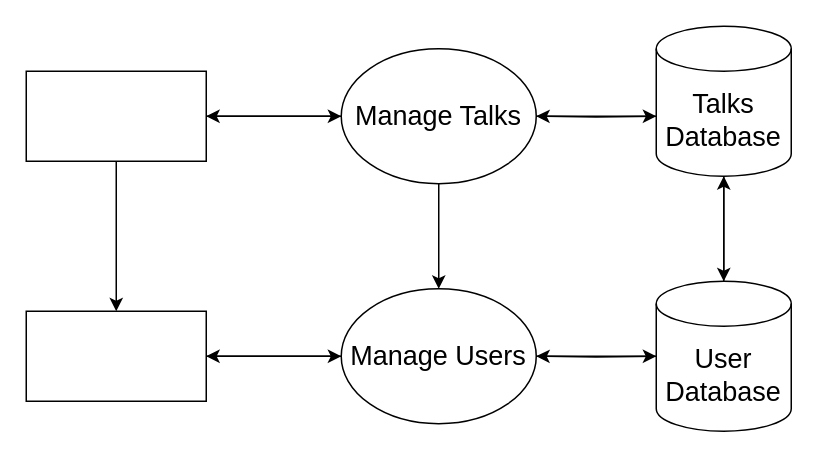
Some shapes in this 818 by 458 pixel diagram are drawn without their labels. The centre of each missing label's shape, as x and y in pixels:
"Administrator" belongs at (x=115, y=355).
"User" belongs at (x=115, y=115).
